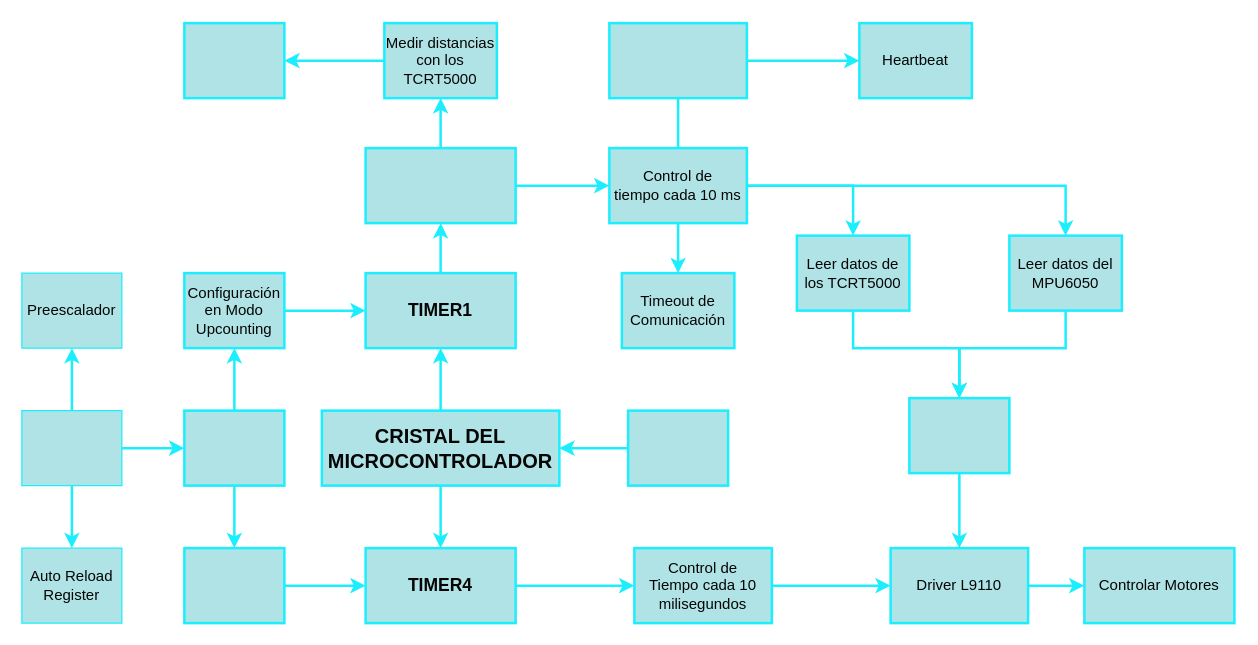
This 1258x645 diagram has some shape labels left out. The centre of each missing label's shape, as x and y in pixels:
"Configuración" goes at point (71, 447).
"Configuración en Modo PWM" goes at point (233, 585).
"Control de tiempo cada 100 milisegundos" goes at point (678, 60).
"Control PID" goes at point (959, 435).
"Filtrado Dinámico" goes at point (233, 60).
"Frecuencia de 72 MHz" goes at point (677, 447).
"INTERRUPCIÓN CADA 250 MILISEGUNDOS" goes at point (440, 185).
"Modo" goes at point (233, 447).
